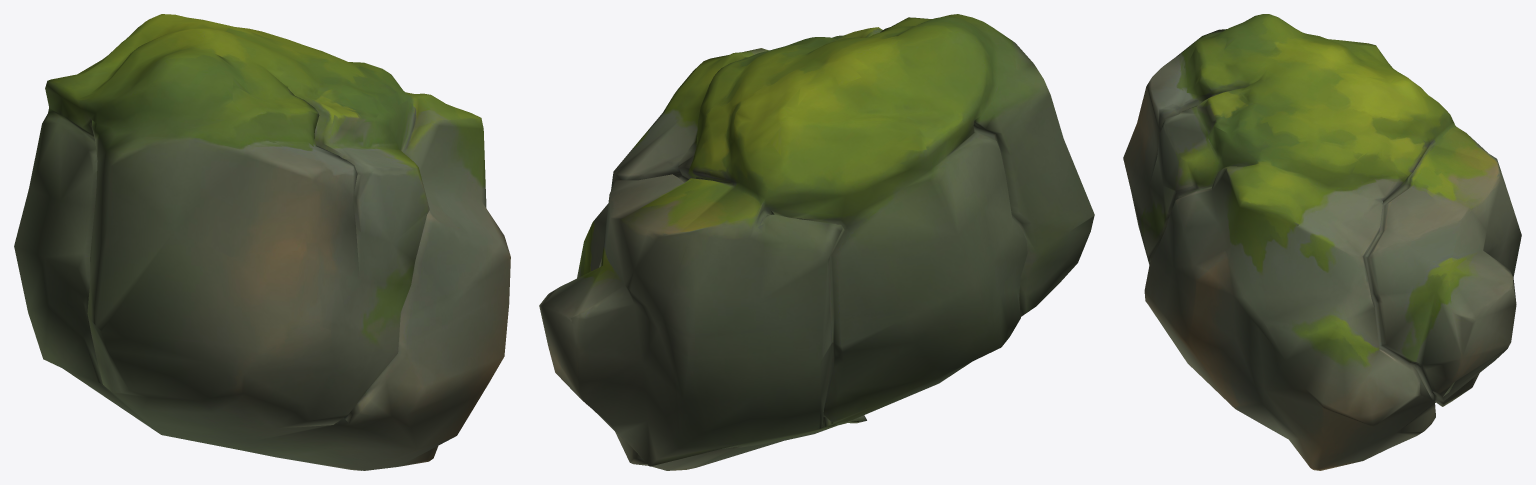
Rendered from Rock_A_LOD1.fbx.
3 renders of one model, left to right at view 1: azimuth 30°, elevation 25°; view 2: azimuth 150°, elevation 25°; view 3: azimuth 270°, elevation 25°, orthographic. The views are drawn at different scales.
Parts seen in each view (by area): view 1: Rock_A_LOD1; view 2: Rock_A_LOD1; view 3: Rock_A_LOD1.
Boxes of the visible parts, x1=… form: Rock_A_LOD1: x1=14, y1=14, x2=510, y2=470; Rock_A_LOD1: x1=539, y1=14, x2=1094, y2=470; Rock_A_LOD1: x1=1123, y1=14, x2=1521, y2=470.
Size of the model in its own units: 2.4 by 2.37 by 2.37.
